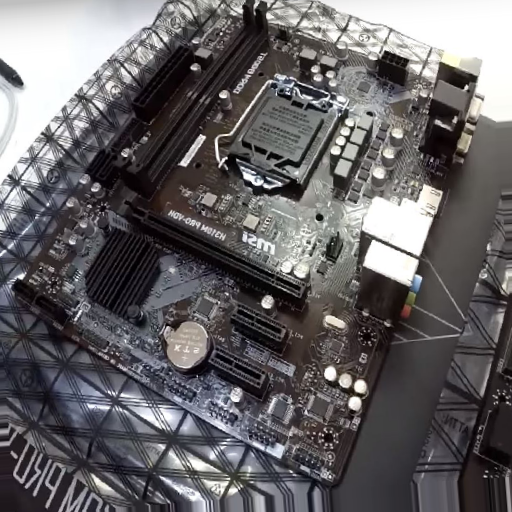CPU: (229, 73, 351, 192)
GPU: (109, 191, 304, 304)
MOTHERBOARD: (12, 14, 479, 477)
RAM: (114, 1, 267, 190)
